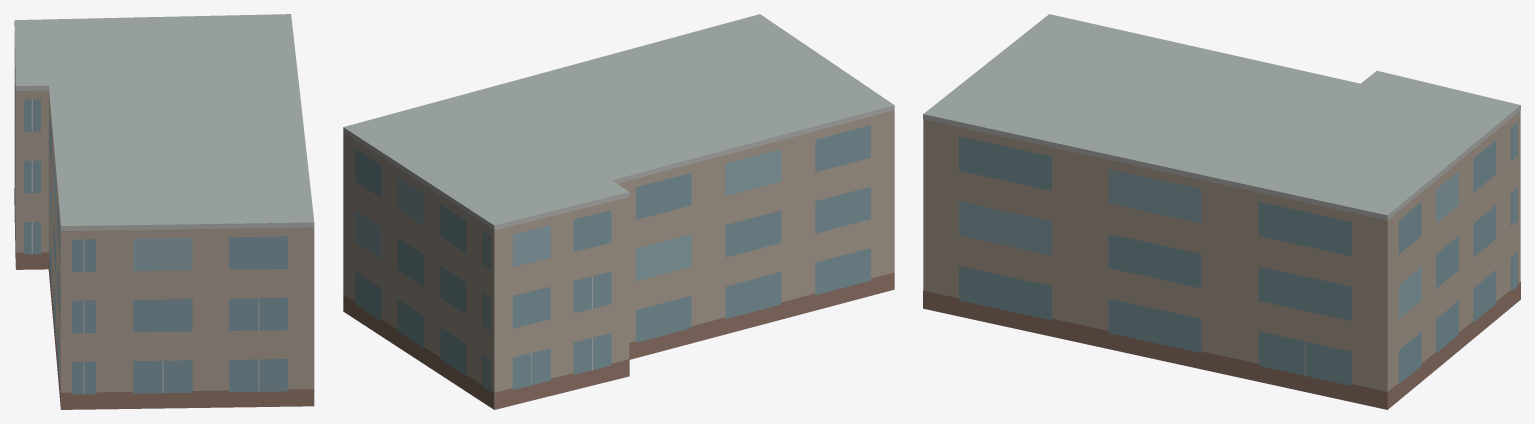
Rendered from survey-upis-32485004.glb.
3 views of the same model, side by side, from view 1: azimuth 30°, elevation 25°; view 2: azimuth 150°, elevation 25°; view 3: azimuth 270°, elevation 25° (orthographic). The views are drawn at different scales.
Visible parts, largest first — view 1: survey-upis-32485004.tmp; view 2: survey-upis-32485004.tmp; view 3: survey-upis-32485004.tmp.
Boxes of the visible parts, box(x1,y1,x2,y2) form: survey-upis-32485004.tmp: box(14, 14, 314, 409); survey-upis-32485004.tmp: box(343, 14, 894, 409); survey-upis-32485004.tmp: box(923, 14, 1520, 409).
Size of the model in its own units: 20.33 by 9.15 by 25.49.
